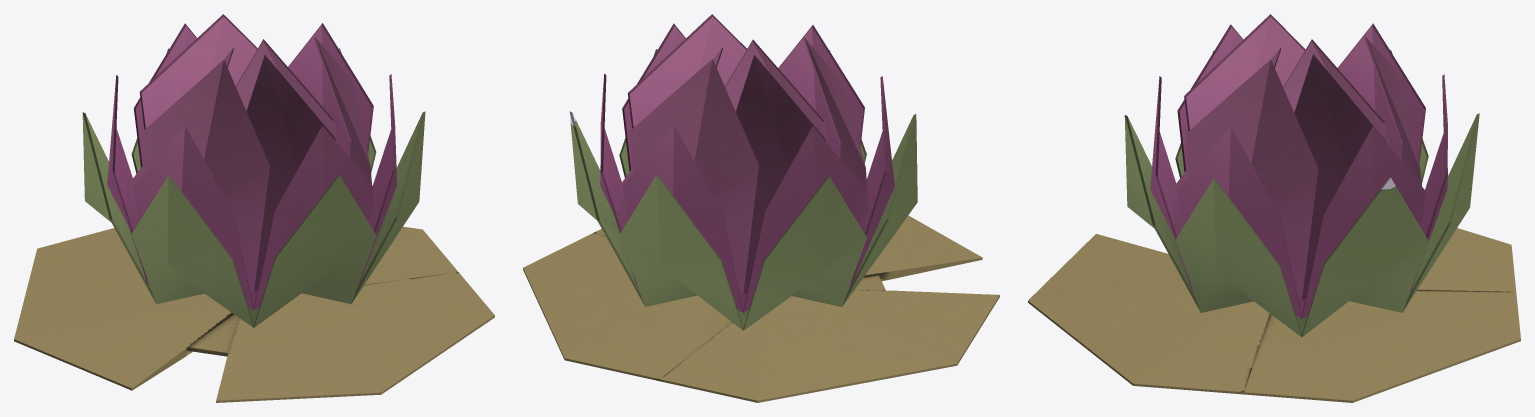
File: water_lily_top.glb
The picture shows the model from 3 angles, left to right: view 1: azimuth 30°, elevation 25°; view 2: azimuth 150°, elevation 25°; view 3: azimuth 270°, elevation 25°; orthographic projection. The views are drawn at different scales.
Parts seen in each view (by area): view 1: WaterLily.002, object 2; view 2: WaterLily.002, object 2; view 3: WaterLily.002, object 2.
Part boxes in pixels (x1,y1,x2,y2): WaterLily.002: (82,14,425,327); object 2: (14,226,494,402); WaterLily.002: (569,14,917,330); object 2: (523,215,999,402); WaterLily.002: (1124,14,1479,337); object 2: (1028,228,1520,402).
Bounding box in the file's own units: 1.81 × 1.1 × 1.79.
Materials: 2 (2 with a texture image).
